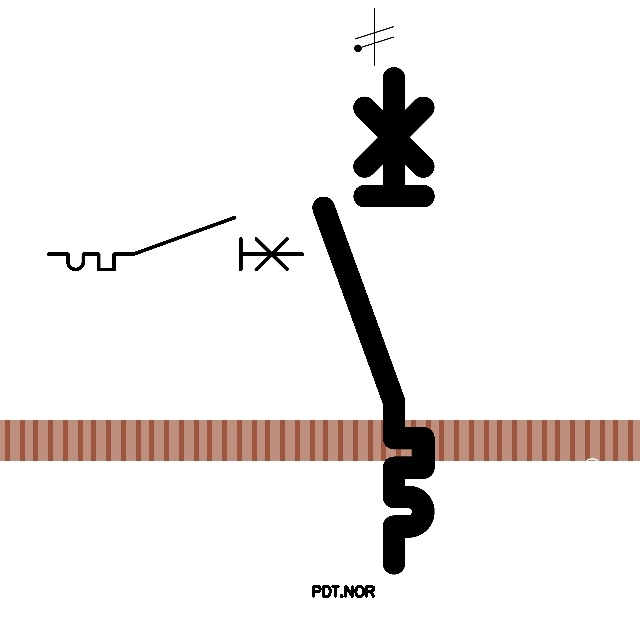interruptor_termomagnetico: (311, 65, 436, 575), (42, 211, 309, 276)
